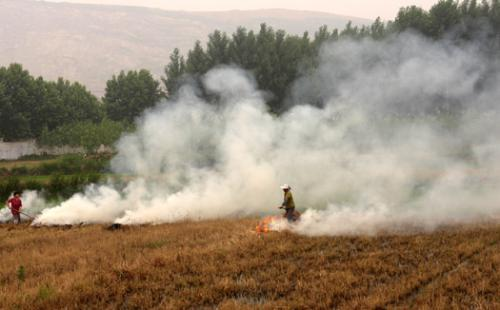smoke: (101, 62, 489, 226)
